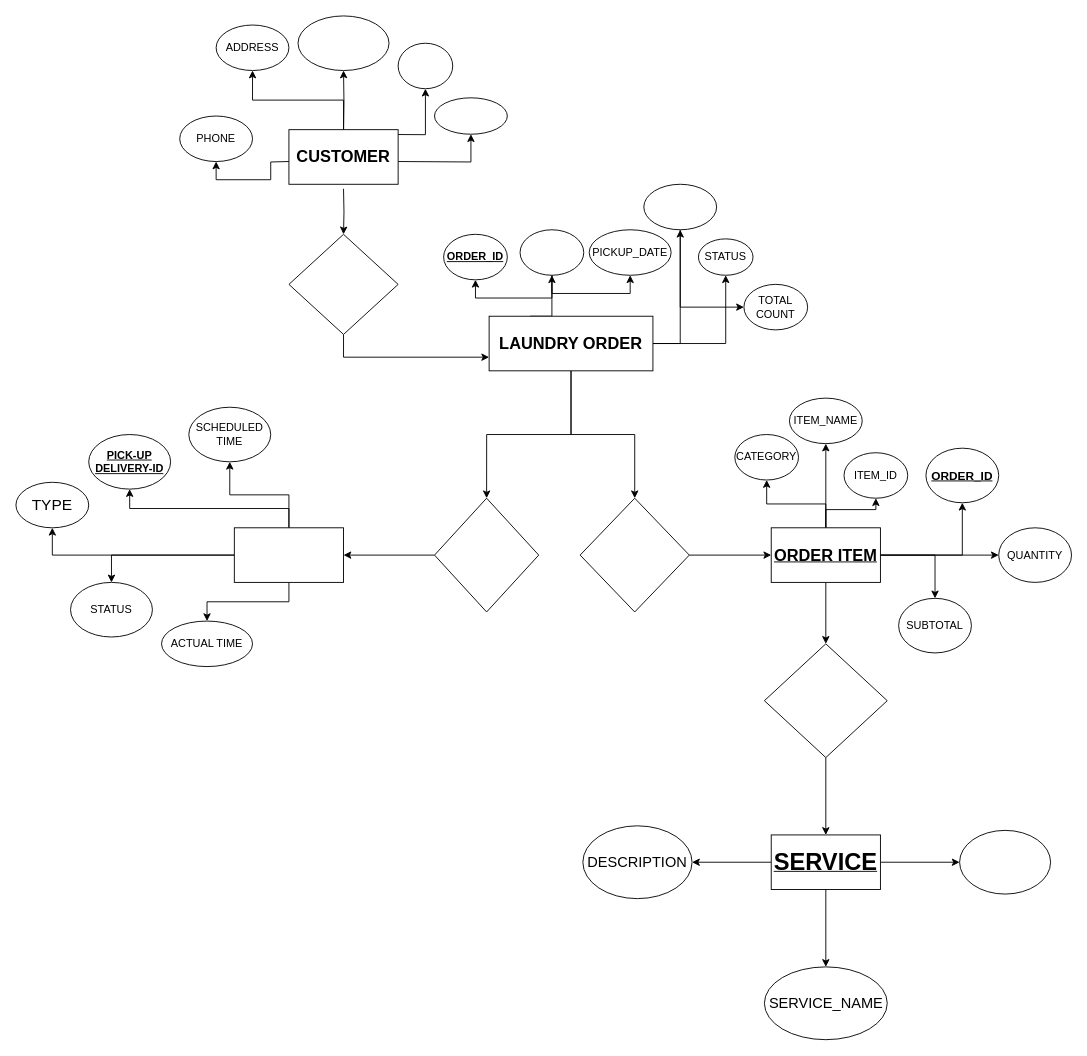
This 1087x1056 diagram has some shape labels left out. Each missing label, with the centre of its shape:
"CONTAINS" goes at (634,554).
"CUSTOMER_ID" goes at (343,43).
"DELIVERY" goes at (288,554).
"DELIVERY DATE" goes at (680,206).
"E-MAIL" goes at (470,115).
"HAS SERVICE" goes at (825,700).
"NAME" goes at (425,65).
"ORDER DATE" goes at (551,252).
"PLACES" goes at (343,283).
"SCHEDULED FOR" goes at (486,554).
"SERVICE_ID" goes at (1005,861).
